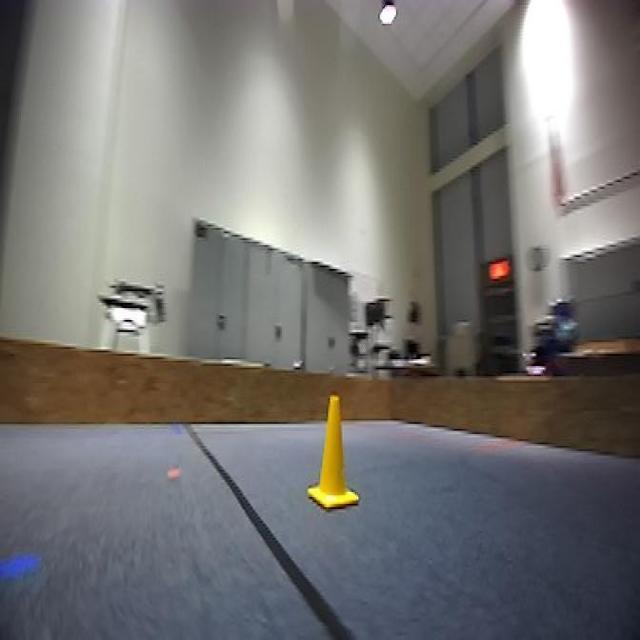frc_cone: (310, 397, 357, 512)
